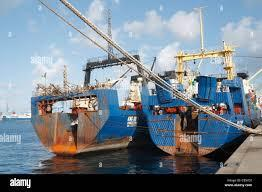Ship: (32, 45, 142, 155), (165, 9, 260, 128), (142, 83, 244, 156), (108, 11, 113, 38)
